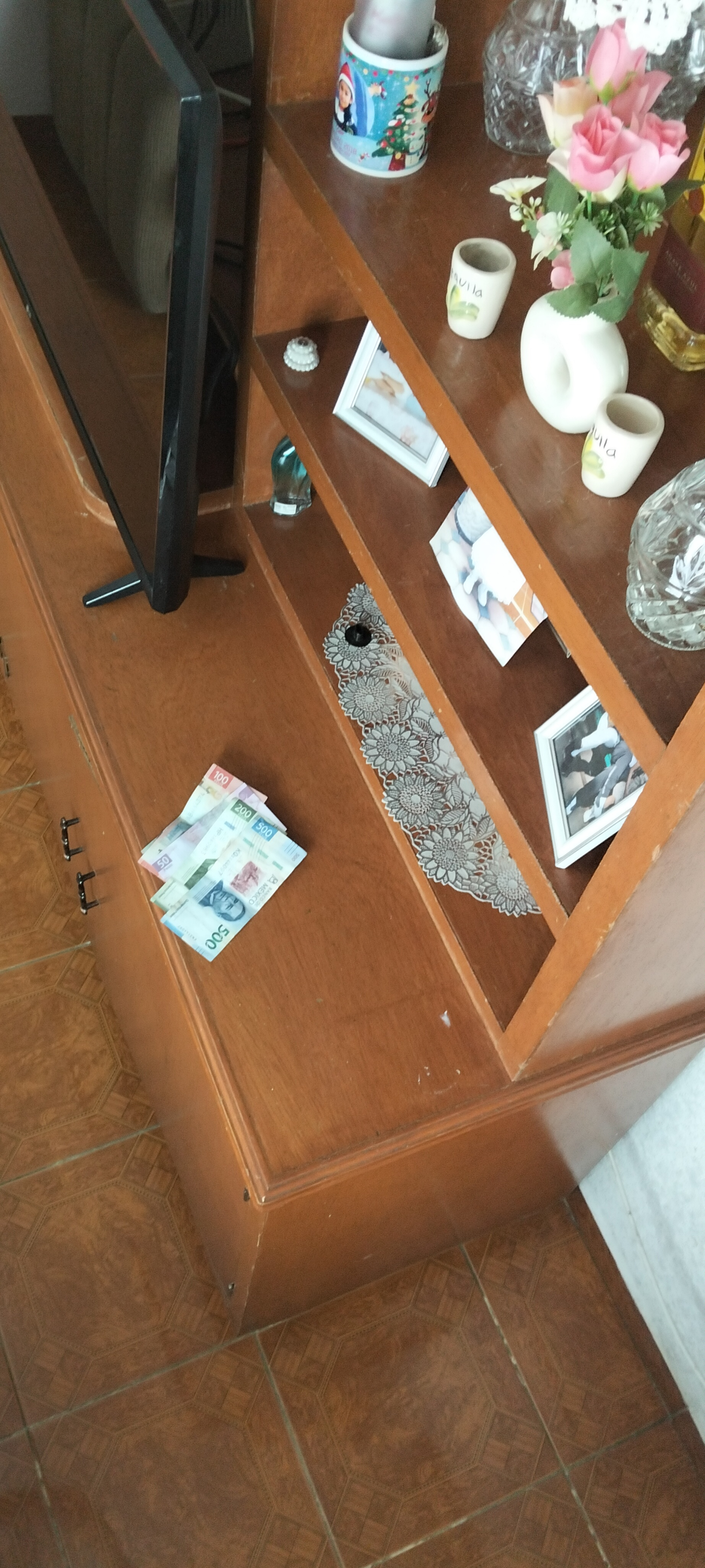billetes: (108, 740, 337, 985)
